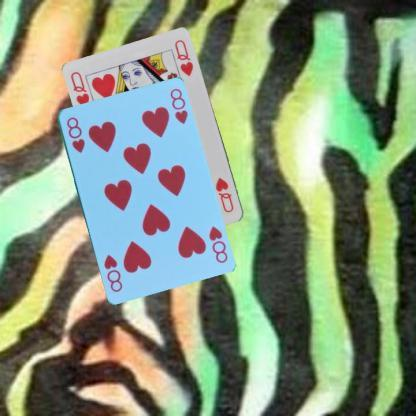8h: (206, 223, 228, 264), (64, 114, 86, 154)
Qh: (68, 68, 91, 110), (213, 174, 235, 214)
